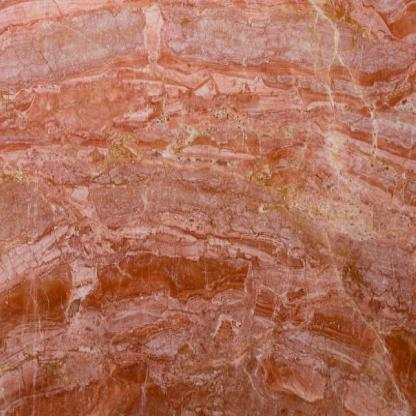Metamorphic_Marble: (1, 2, 415, 415)
